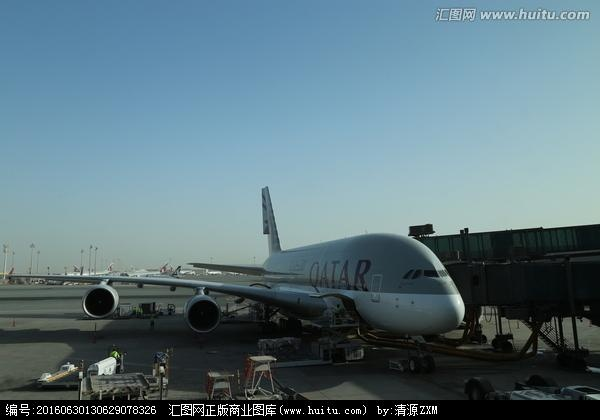airplane: (5, 186, 476, 342)
